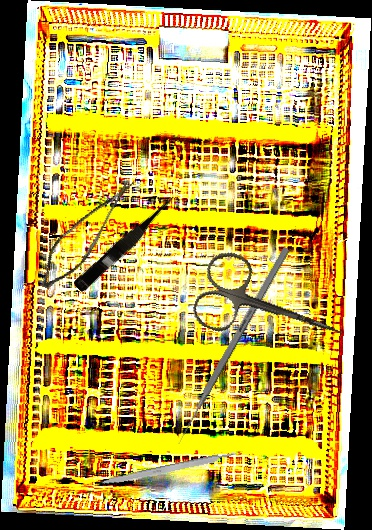Iris Scissors: (188, 246, 355, 372)
Micro Scissor: (34, 162, 135, 302), (72, 192, 182, 296)
Pusher: (174, 246, 291, 446)
Scalpel Handle: (98, 450, 238, 489)
